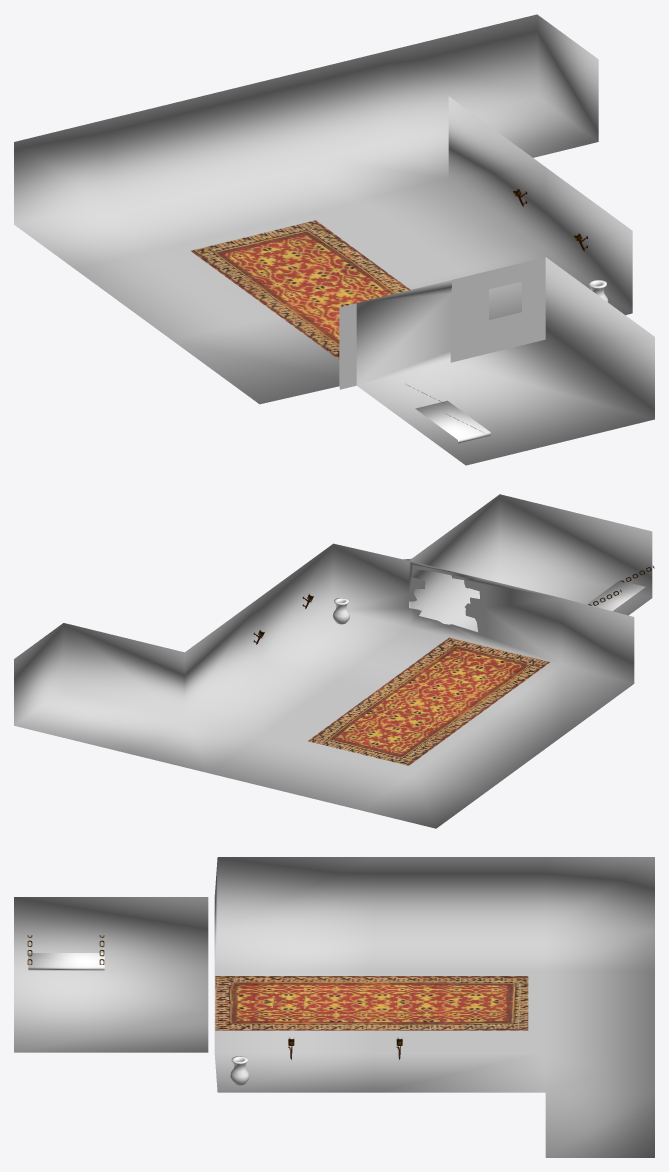
The model's file is endcutscene_track.glb.
The picture shows the model from 3 angles, top to bottom: view 1: azimuth 30°, elevation 25°; view 2: azimuth 150°, elevation 25°; view 3: azimuth 270°, elevation 25°; orthographic projection. The views are drawn at different scales.
Visible parts, largest first — view 1: castelwall.jpg__, carpet.jpg__, woodBridge.jpg__; view 2: castelwall.jpg__, carpet.jpg__, woodBridge.jpg__; view 3: castelwall.jpg__, carpet.jpg__, woodBridge.jpg__, marble.jpg__.
Part boxes in pixels (x1,y1,x2,y2): castelwall.jpg__: (14,14,654,465); carpet.jpg__: (190,220,410,359); woodBridge.jpg__: (415,400,490,443); castelwall.jpg__: (14,494,652,828); carpet.jpg__: (308,637,549,765); woodBridge.jpg__: (587,580,645,611); castelwall.jpg__: (14,857,654,1157); carpet.jpg__: (215,976,528,1030); woodBridge.jpg__: (28,953,104,970); marble.jpg__: (230,1056,249,1085).
Size of the model in its own units: 32.16 by 4.86 by 38.31.
6 materials, 3 textured.
